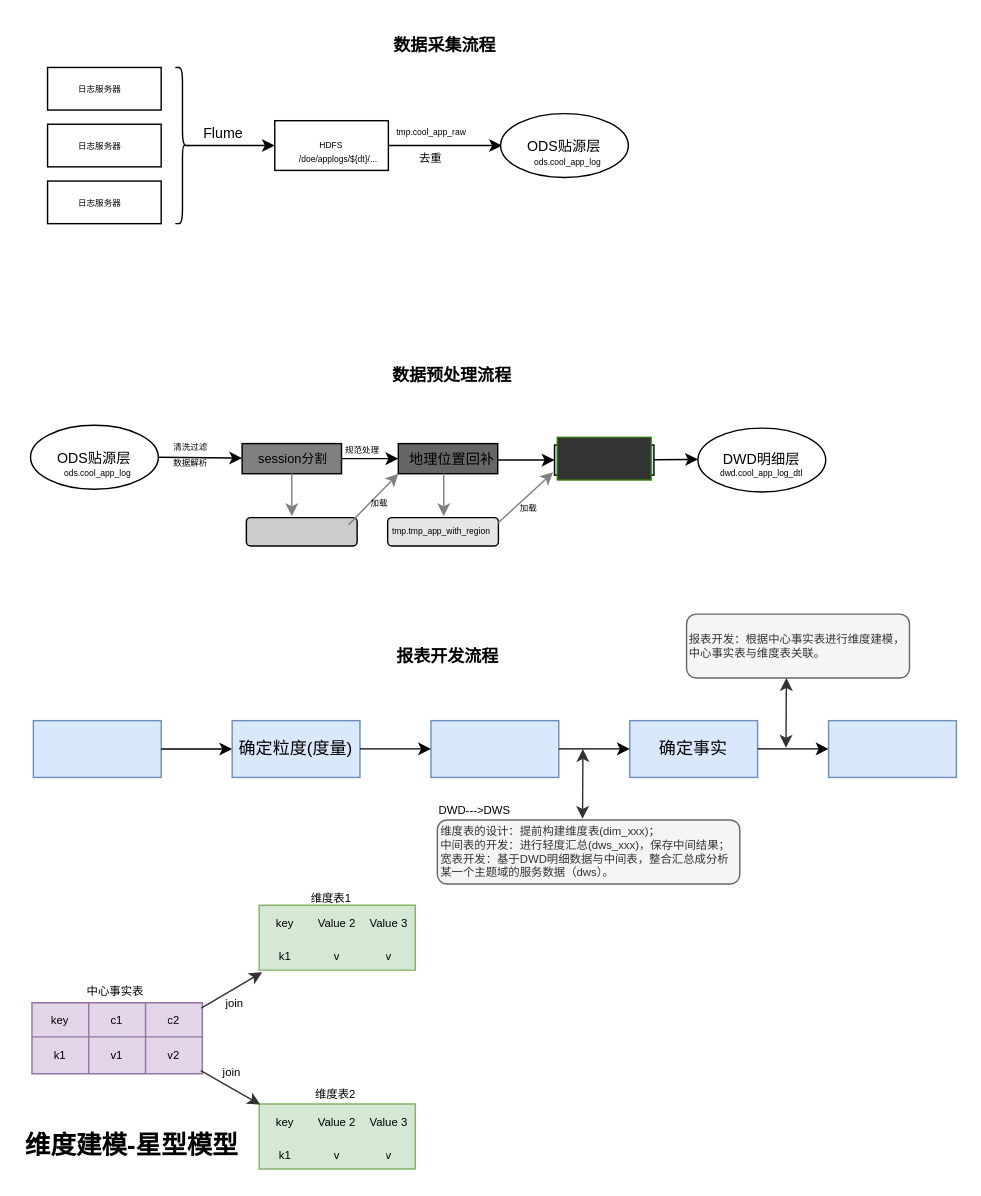
The diagram is 981 pixels wide and 1196 high, and some of its shapes have lost their labels. The shapes that lost their labels are listed below. From the top down, each one's box as (x1, y1, x2, y2) in pixels, then its label:
(556, 436, 651, 480): 全局guid
(245, 516, 357, 546): tmp. tmp_app_split_session
(32, 719, 161, 777): 确定业务
(430, 719, 559, 777): 确定维度
(827, 719, 956, 777): 报表开发
